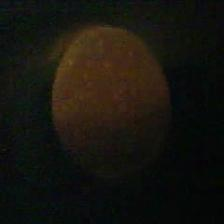fertile: (52, 24, 170, 172)
